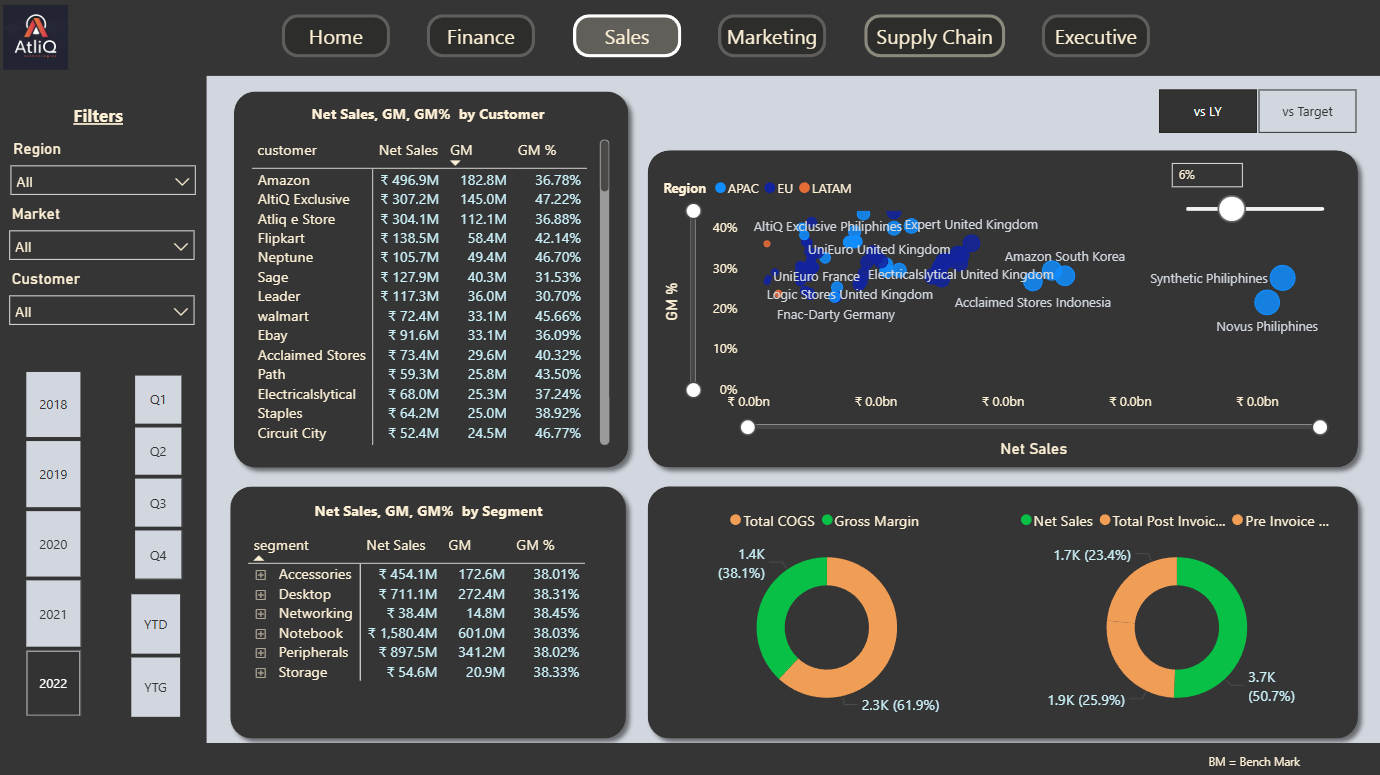

Layout of this report page (visuals, bound fields, positions):
{"tool":"powerbi","page":{"name":"Sales View","canvas":[1280,720],"ordinal":2},"visuals":[{"type":"shape","box":[0,0,1280,72.4],"z":0},{"type":"shape","box":[0,688.9,1279.8,31],"z":0,"group":"g1"},{"type":"shape","box":[0,0,193,720.2],"z":1000},{"type":"textbox","box":[1113.4,691.5,166.3,28.5],"z":1000,"group":"g1"},{"type":"slicer","fields":{"Values":["gdb041 dim_market.market"]},"box":[0,185.8,191.8,60.3],"z":2000},{"type":"slicer","fields":{"Values":["gdb041 dim_customer.customer"]},"box":[0,246.1,191.8,59.1],"z":3000},{"type":"slicer","fields":{"Values":["gdb041 dim_market.region"]},"box":[1.2,125.5,191.8,60.3],"z":4000},{"type":"image","box":[0,0,70,72.4],"z":5000},{"type":"slicer","fields":{"Values":["fiscal_year.Fiscal Year"]},"box":[0,339,100.1,331.8],"z":6000},{"type":"slicer","fields":{"Values":["dim_date.Quaters"]},"box":[100.1,341.4,92.9,201.5],"z":7000},{"type":"slicer","fields":{"Values":["dim_date.ytd_ytg"]},"box":[96.5,544.1,95.3,126.7],"z":8000},{"type":"textbox","box":[65.1,92.9,65.1,32.6],"z":9000},{"type":"actionButton","box":[261.8,14.7,100.1,39.8],"z":10000},{"type":"actionButton","box":[396.4,14.7,100.1,39.8],"z":11000},{"type":"actionButton","box":[531.1,14.7,100.1,39.8],"z":12000},{"type":"actionButton","box":[665.7,14.7,100.1,39.8],"z":13000},{"type":"actionButton","box":[800.4,14.7,130.3,39.8],"z":14000},{"type":"actionButton","box":[965.2,14.7,100.1,39.8],"z":15000},{"type":"slicer","fields":{"Values":["NS BM.Benchmark "]},"box":[1047.1,77.2,232.8,54.3],"z":16000},{"type":"shape","box":[205.1,442.8,383.6,250.9],"z":17000},{"type":"shape","box":[591.2,442.8,674.4,250.9],"z":18000},{"type":"shape","box":[591.2,131.5,674.4,311.3],"z":19000},{"type":"shape","box":[208.7,77.2,382.4,365.6],"z":20000},{"type":"pivotTable","fields":{"Rows":["gdb041 dim_customer.customer"],"Values":["Key Measures.Net Sales $","Key Measures.GM $","Key Measures.GM %"]},"box":[230.4,125.5,340.2,292],"z":21000},{"type":"pivotTable","fields":{"Rows":["gdb041 dim_product.segment","gdb041 dim_product.category","gdb041 dim_product.product"],"Values":["Key Measures.Net Sales $","Key Measures.GM $","Key Measures.GM %"]},"box":[226.8,491,340.2,184.6],"z":22000},{"type":"scatterChart","fields":{"Category":["gdb041 dim_customer.customer","gdb041 dim_market.market"],"X":["Key Measures.Net Sales $"],"Series":["gdb041 dim_market.region"],"Size":["Key Measures.Net Sales $"],"Y":["Key Measures.GM %"]},"box":[610.5,155.6,637,272.7],"z":23000},{"type":"slicer","fields":{"Values":["Target Gap Tolerence.Target Gap Tolerence"]},"box":[1072.5,142.4,174.9,73.6],"z":24000},{"type":"donutChart","fields":{"Y":["Key Measures.p&L values"],"Category":["P&L rows.Description"]},"box":[610.5,462.1,312.5,209.9],"z":25000},{"type":"donutChart","fields":{"Y":["Key Measures.p&L values"],"Category":["P&L rows.Description"]},"box":[932.6,462.1,314.9,209.9],"z":26000},{"type":"textbox","box":[249.7,459.7,300.4,31.4],"z":27000},{"type":"textbox","box":[247.3,92.9,300.4,31.4],"z":28000},{"type":"group","id":"g1","title":"Footer","box":[0,688.9,1279.8,31.1],"z":29000}]}

Visuals, with their boxes in screenshot pixels (x1, y1, x2, y2), scaled from the page's 1280x720 canvas onto the 1380x775 screenshot:
shape: 0,0,1379,78
shape: 0,742,1379,774
shape: 0,0,208,774
textbox: 1200,744,1379,774
slicer - gdb041 dim_market.market: 0,200,207,265
slicer - gdb041 dim_customer.customer: 0,265,207,329
slicer - gdb041 dim_market.region: 1,135,208,200
image: 0,0,75,78
slicer - fiscal_year.Fiscal Year: 0,365,108,722
slicer - dim_date.Quaters: 108,367,208,584
slicer - dim_date.ytd_ytg: 104,586,207,722
textbox: 70,100,140,135
actionButton: 282,16,390,59
actionButton: 427,16,535,59
actionButton: 573,16,681,59
actionButton: 718,16,826,59
actionButton: 863,16,1003,59
actionButton: 1041,16,1149,59
slicer - NS BM.Benchmark : 1129,83,1379,142
shape: 221,477,635,747
shape: 637,477,1364,747
shape: 637,142,1364,477
shape: 225,83,637,477
pivotTable - gdb041 dim_customer.customer x Key Measures.Net Sales $: 248,135,615,449
pivotTable - gdb041 dim_product.segment x gdb041 dim_product.category: 245,529,611,727
scatterChart - gdb041 dim_customer.customer x gdb041 dim_market.market: 658,167,1345,461
slicer - Target Gap Tolerence.Target Gap Tolerence: 1156,153,1345,232
donutChart - Key Measures.p&L values x P&L rows.Description: 658,497,995,723
donutChart - Key Measures.p&L values x P&L rows.Description: 1005,497,1345,723
textbox: 269,495,593,529
textbox: 267,100,590,134
"Footer" group: 0,742,1379,774
